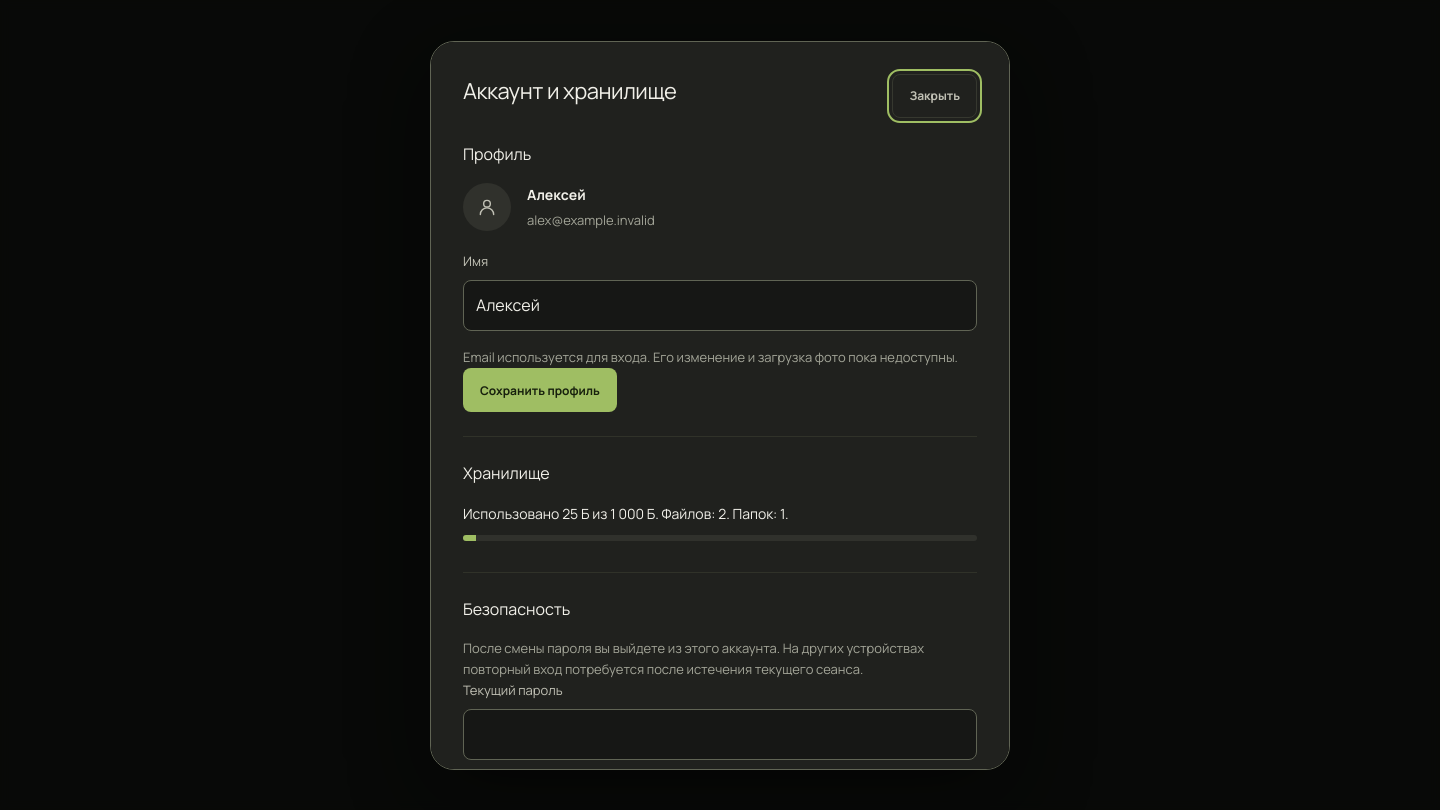
Scenario: AccountDialog › shows persisted quota and saves profile then updates session without unmounting
Expected: the text "Использовано 25 Б из 1 000 Б. Файлов: 2. Папок: 1." is shown, 463,504 -> 789,523
Replace the text in the field labelled "Имя" with " Новое имя ": (720,306) 463,280 -> 977,332
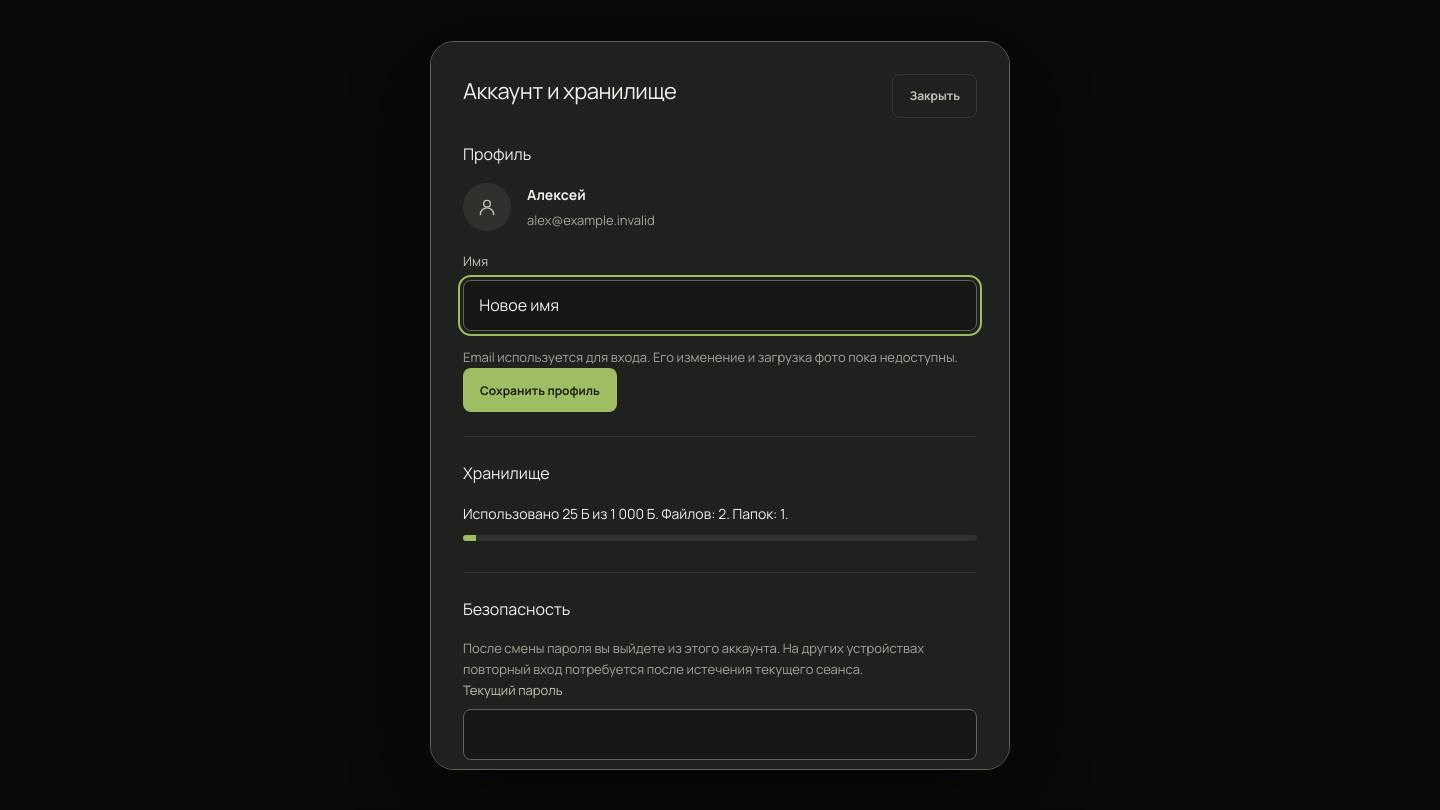
Click the button "Сохранить профиль": (540,390) 463,368 -> 617,412
(page scrolled)
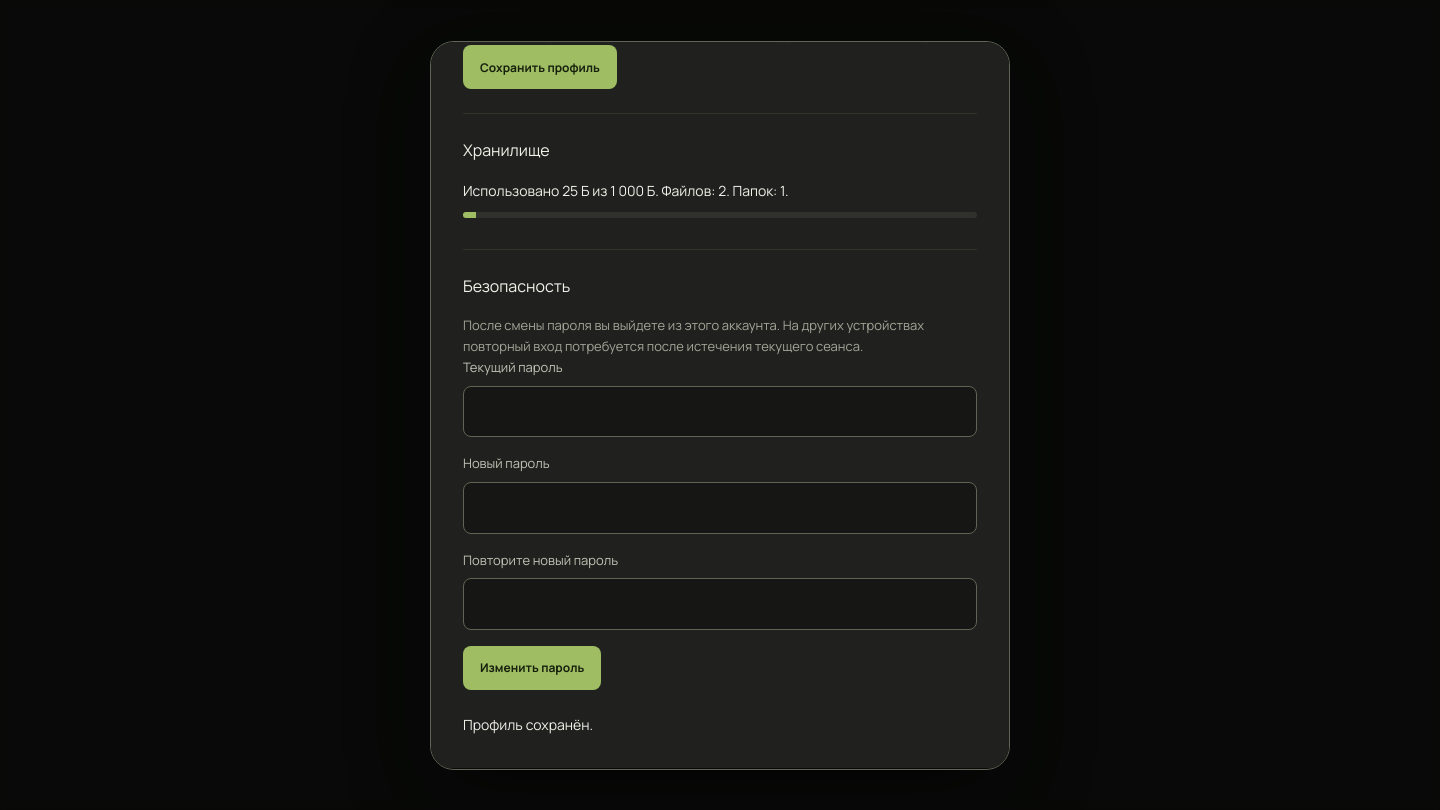
Expected: the message reads "Профиль сохранён.", 463,715 -> 593,734
